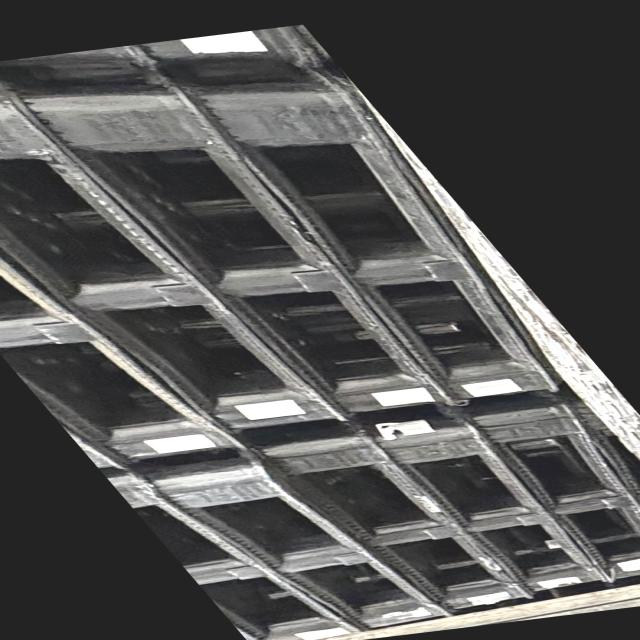igps: (12, 69, 482, 424), (169, 54, 579, 408), (0, 74, 369, 438), (126, 442, 462, 634), (0, 253, 268, 476), (243, 425, 552, 617), (104, 465, 378, 640), (359, 413, 621, 596), (455, 394, 639, 588)
